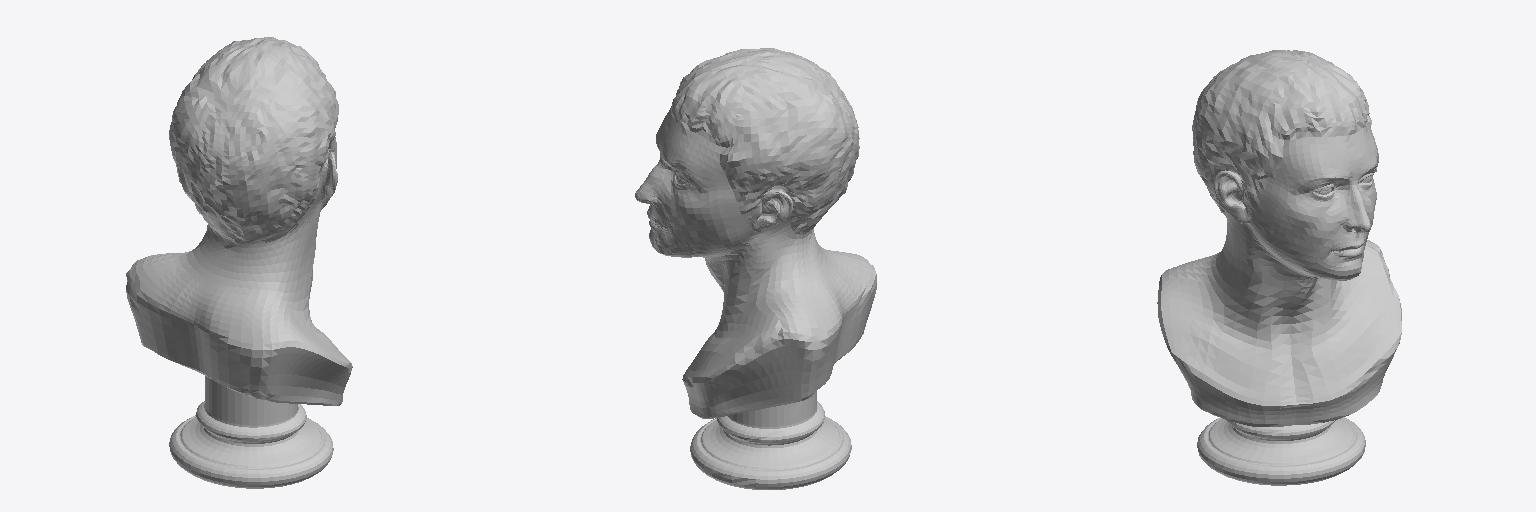
Rendered from Marble_Bust.obj.
3 renders of one model, left to right at view 1: azimuth 30°, elevation 25°; view 2: azimuth 150°, elevation 25°; view 3: azimuth 270°, elevation 25°, orthographic.
Parts seen in each view (by area): view 1: marble_bust_01; view 2: marble_bust_01; view 3: marble_bust_01.
Boxes of the visible parts, box(x1,y1,x2,y2) form: marble_bust_01: box(126, 37, 352, 488); marble_bust_01: box(635, 48, 876, 489); marble_bust_01: box(1157, 50, 1401, 485).
Size of the model in its own units: 0.2412 by 0.5149 by 0.2841.